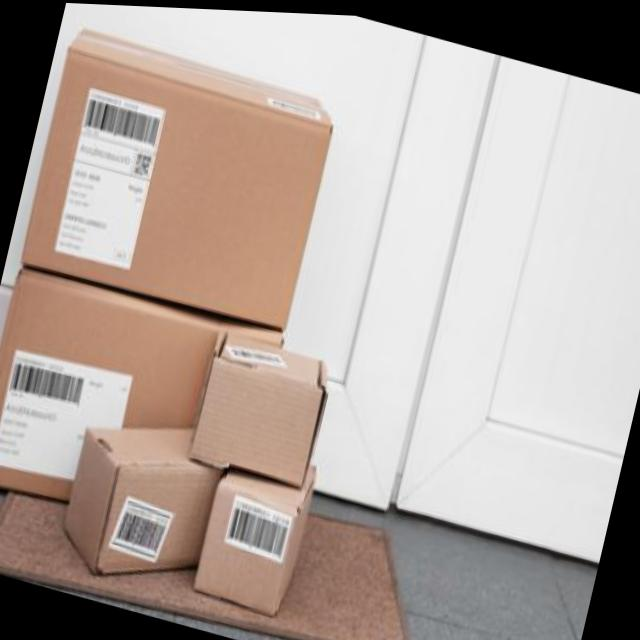box: (12, 12, 348, 338), (0, 233, 292, 566), (35, 386, 232, 625), (173, 429, 335, 640), (182, 314, 343, 507)
